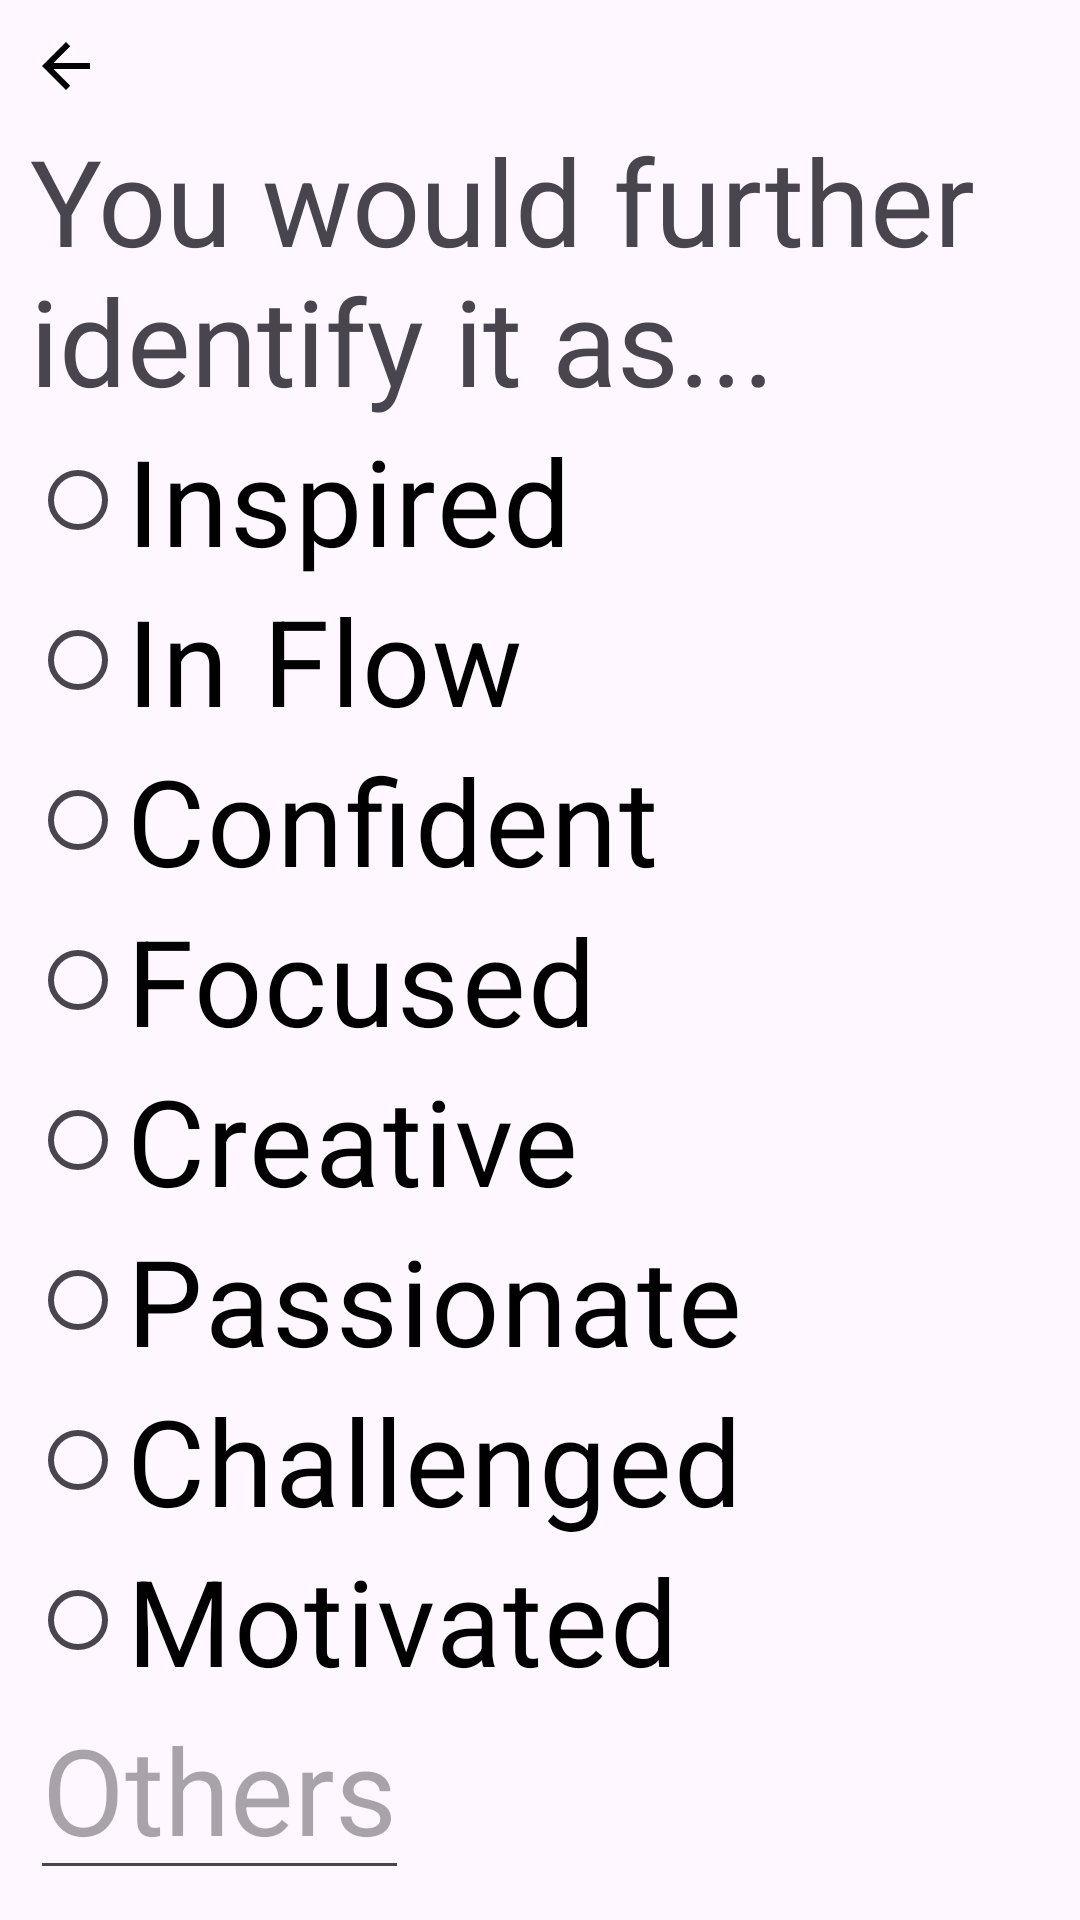

Point at icon controls on the screen. Image size 1080×1920, points as (x,y).
arrow back: (66,66)
